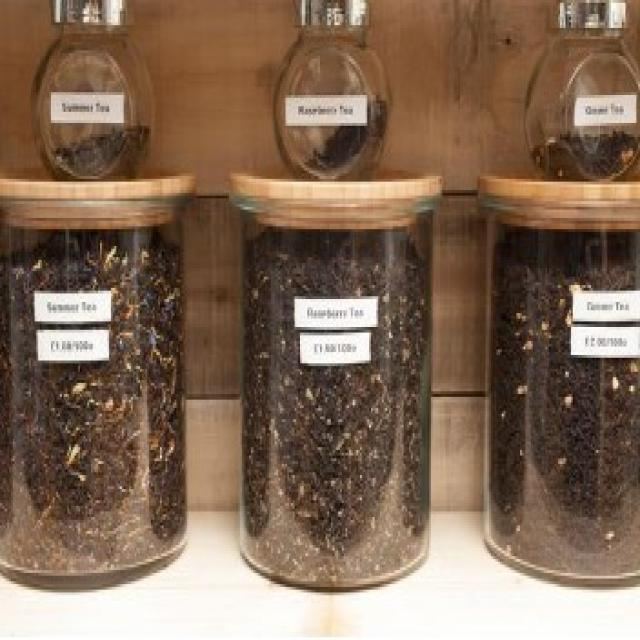electronic: (0, 179, 640, 595), (33, 0, 640, 179)
